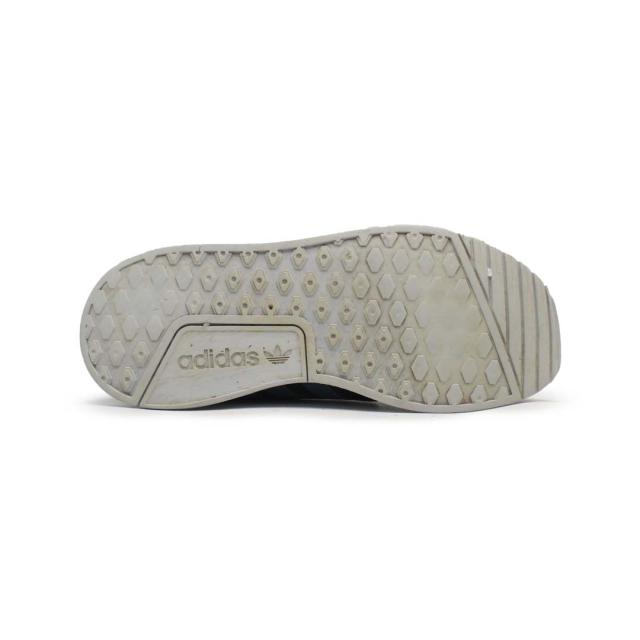outersole: (79, 225, 561, 413)
